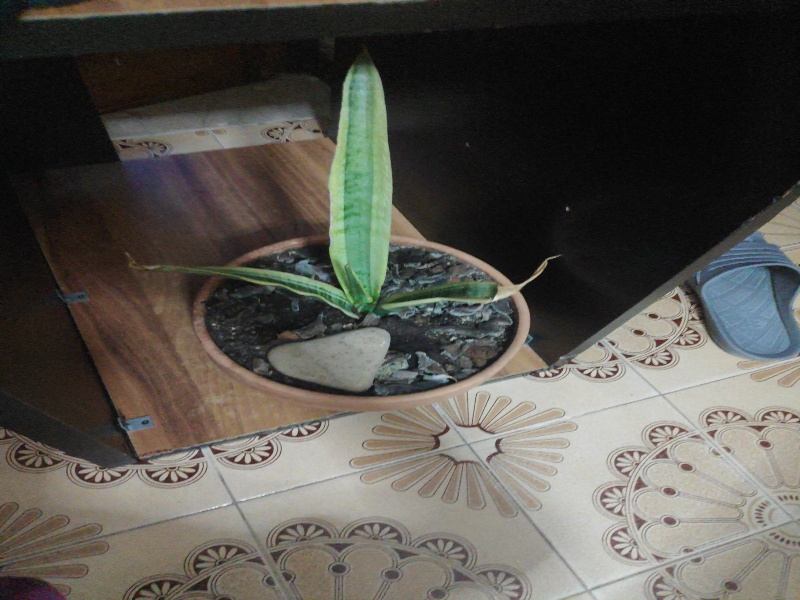plant: (116, 44, 570, 414)
